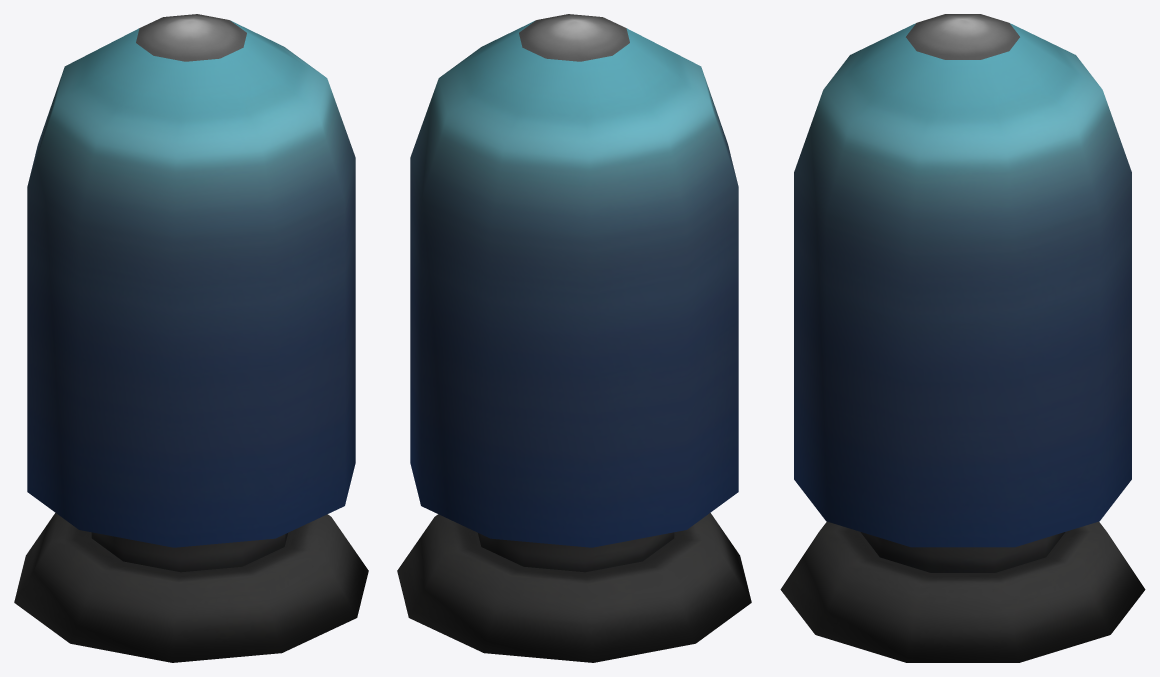
The model's file is SM_Bullet.fbx.
3 views of the same model, side by side, from view 1: azimuth 30°, elevation 25°; view 2: azimuth 150°, elevation 25°; view 3: azimuth 270°, elevation 25° (orthographic).
Parts seen in each view (by area): view 1: Bullet; view 2: Bullet; view 3: Bullet.
Part boxes in pixels (<box>): Bullet: <box>14,14,368,662</box>; Bullet: <box>397,14,751,662</box>; Bullet: <box>780,14,1145,662</box>.
Bounding box in the file's own units: 20.54 × 37.14 × 21.59.
